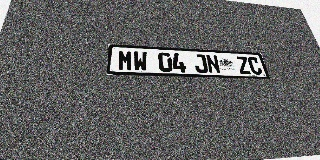plate: (107, 44, 270, 79)
